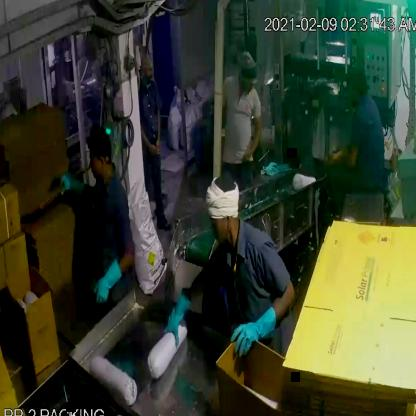glove: (220, 306, 286, 368), (159, 274, 198, 354), (90, 240, 130, 310), (53, 161, 98, 211)
no_glove: (241, 100, 271, 170), (319, 135, 364, 180), (130, 111, 156, 163), (148, 101, 167, 155)
